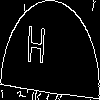H: (25, 25, 47, 74)
